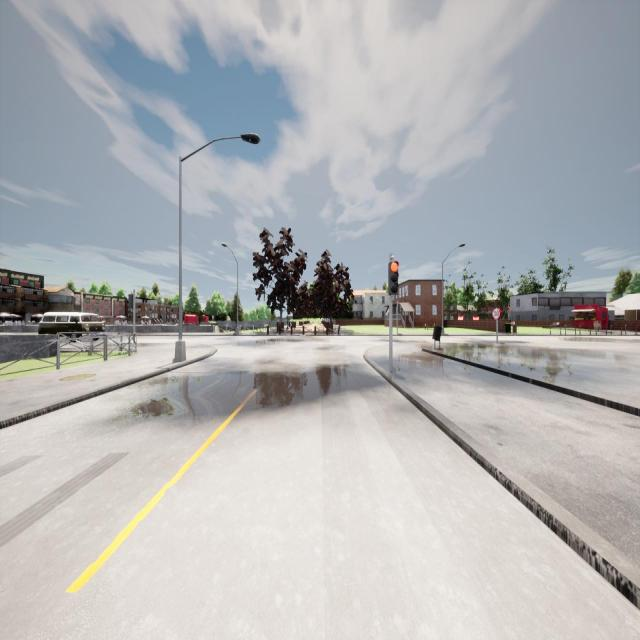Traffic_Signs: (492, 308, 502, 320)
Vehicle: (38, 312, 104, 343)
traffic_light: (388, 262, 398, 295), (128, 294, 133, 309)
